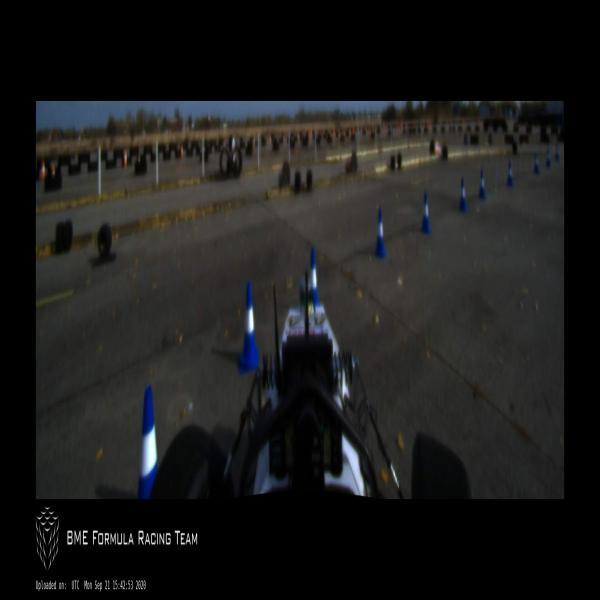blue_cone: (138, 386, 158, 499), (240, 284, 258, 374), (372, 208, 387, 256), (419, 190, 432, 235), (310, 248, 318, 304), (458, 179, 468, 212), (478, 168, 487, 200), (506, 161, 513, 184), (534, 151, 539, 175), (546, 148, 551, 168), (555, 144, 559, 162)
